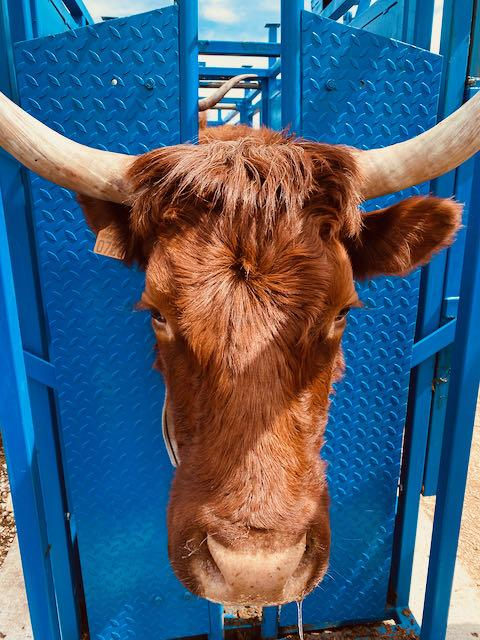muzzles: (175, 513, 330, 611)
